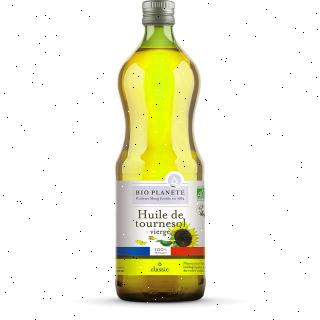Plastic-bottle: (105, 4, 217, 308)
